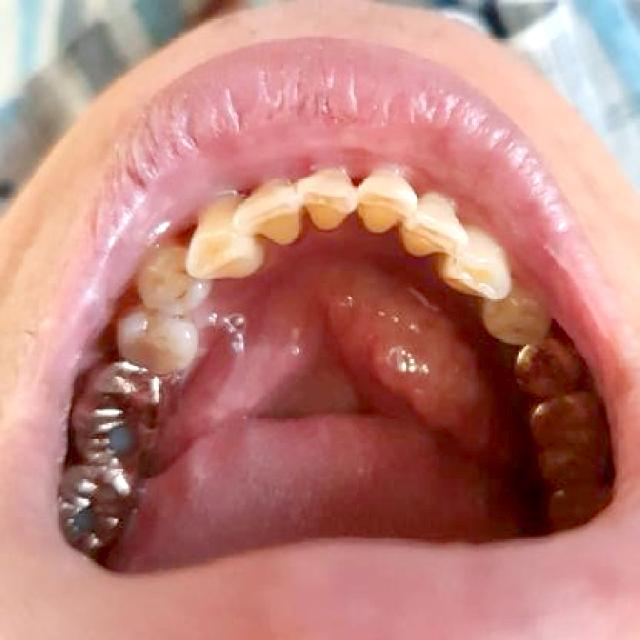Plaque: (496, 312, 536, 354), (166, 284, 204, 322)
